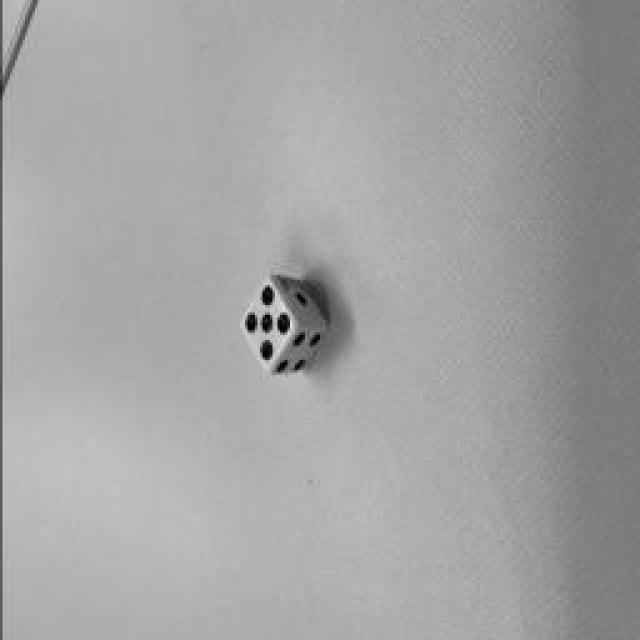dice_5: (242, 274, 296, 371)
